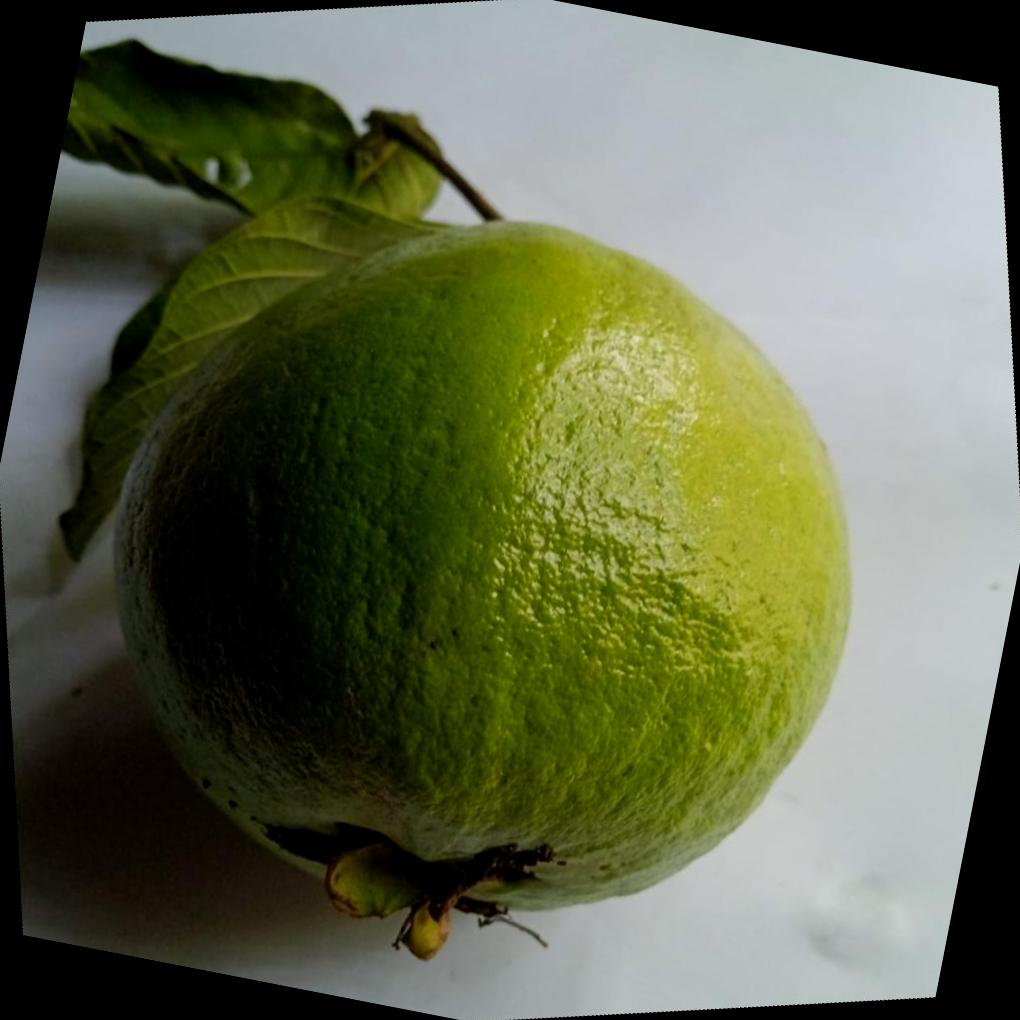FreshGuava: (109, 82, 856, 955)
